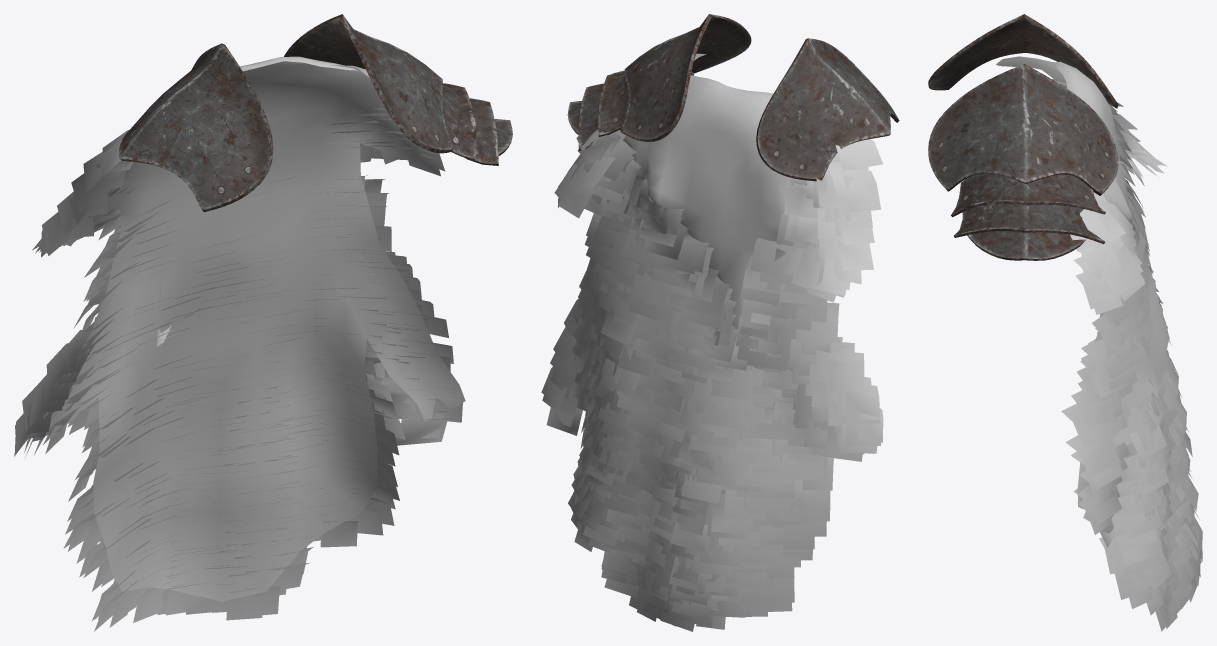
File: sk_gb_uruk_cape_pauldron_elite_c.fbx
The picture shows the model from 3 angles, left to right: view 1: azimuth 30°, elevation 25°; view 2: azimuth 150°, elevation 25°; view 3: azimuth 270°, elevation 25°; orthographic projection. The views are drawn at different scales.
Visible parts, largest first — view 1: sk_gb_uruk_cape_pauldron_elite_c.base, sk_gb_uruk_cape_pauldron_elite_c.fur, sk_gb_uruk_cape_pauldron_elite_c.pauld; view 2: sk_gb_uruk_cape_pauldron_elite_c.fur, sk_gb_uruk_cape_pauldron_elite_c.pauld, sk_gb_uruk_cape_pauldron_elite_c.base; view 3: sk_gb_uruk_cape_pauldron_elite_c.fur, sk_gb_uruk_cape_pauldron_elite_c.pauld, sk_gb_uruk_cape_pauldron_elite_c.base.
Part boxes in pixels (x1,y1,x2,y2): sk_gb_uruk_cape_pauldron_elite_c.base: (43,56,465,601); sk_gb_uruk_cape_pauldron_elite_c.fur: (14,101,463,631); sk_gb_uruk_cape_pauldron_elite_c.pauld: (119,14,512,211); sk_gb_uruk_cape_pauldron_elite_c.fur: (541,129,883,631); sk_gb_uruk_cape_pauldron_elite_c.pauld: (567,14,899,181); sk_gb_uruk_cape_pauldron_elite_c.base: (622,53,843,494); sk_gb_uruk_cape_pauldron_elite_c.fur: (1052,62,1202,631); sk_gb_uruk_cape_pauldron_elite_c.pauld: (928,14,1118,260); sk_gb_uruk_cape_pauldron_elite_c.base: (996,56,1132,509).
Bounding box in the file's own units: 0.8388 × 0.5397 × 1.22.
